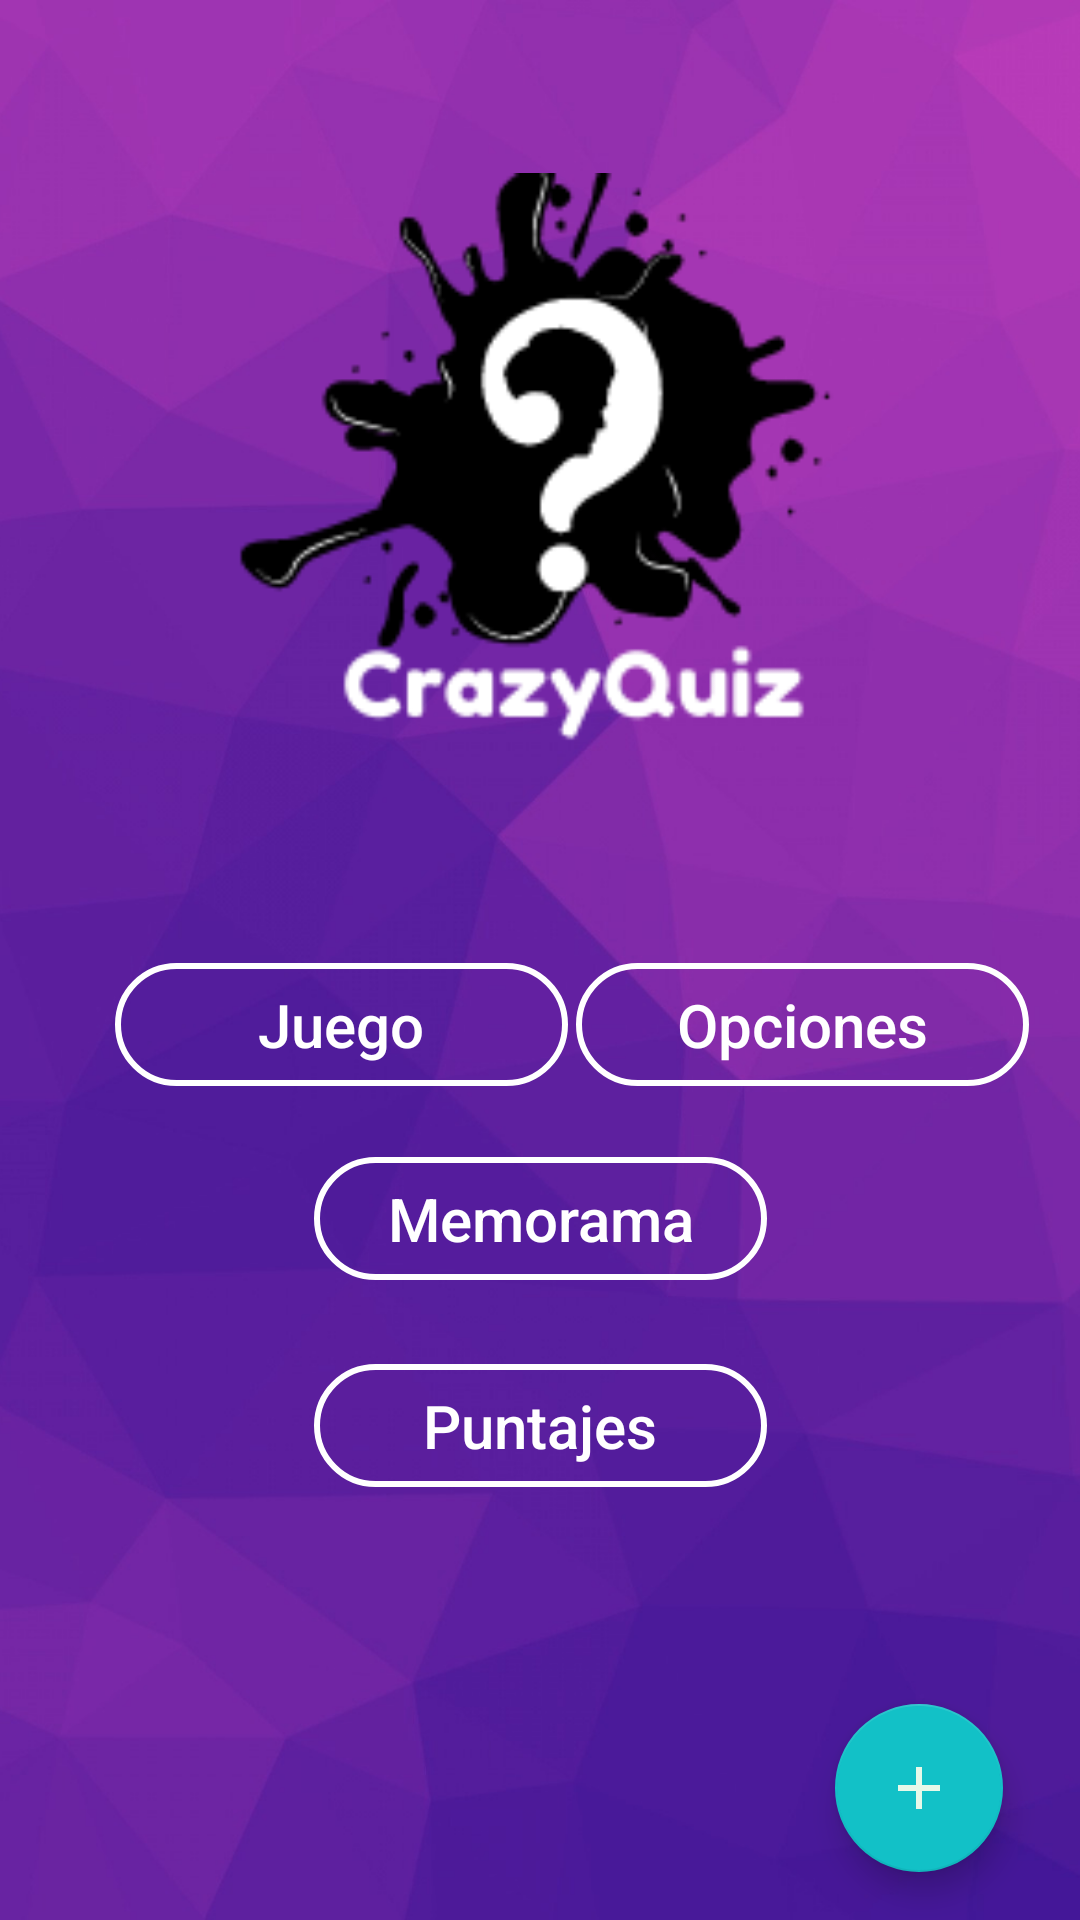

Icons on this 1080*1920 Android screen, each with its box as [x1,y1,x2,y2]:
add: [835,1704,1003,1872]
